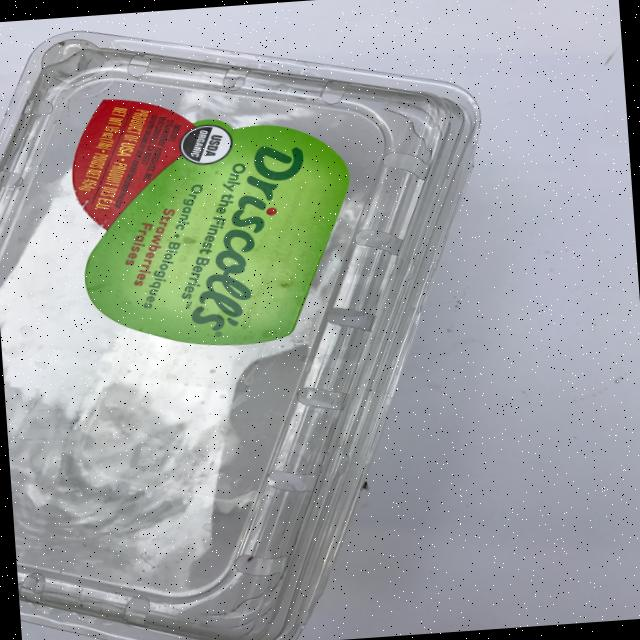plastic: (0, 3, 516, 640)
